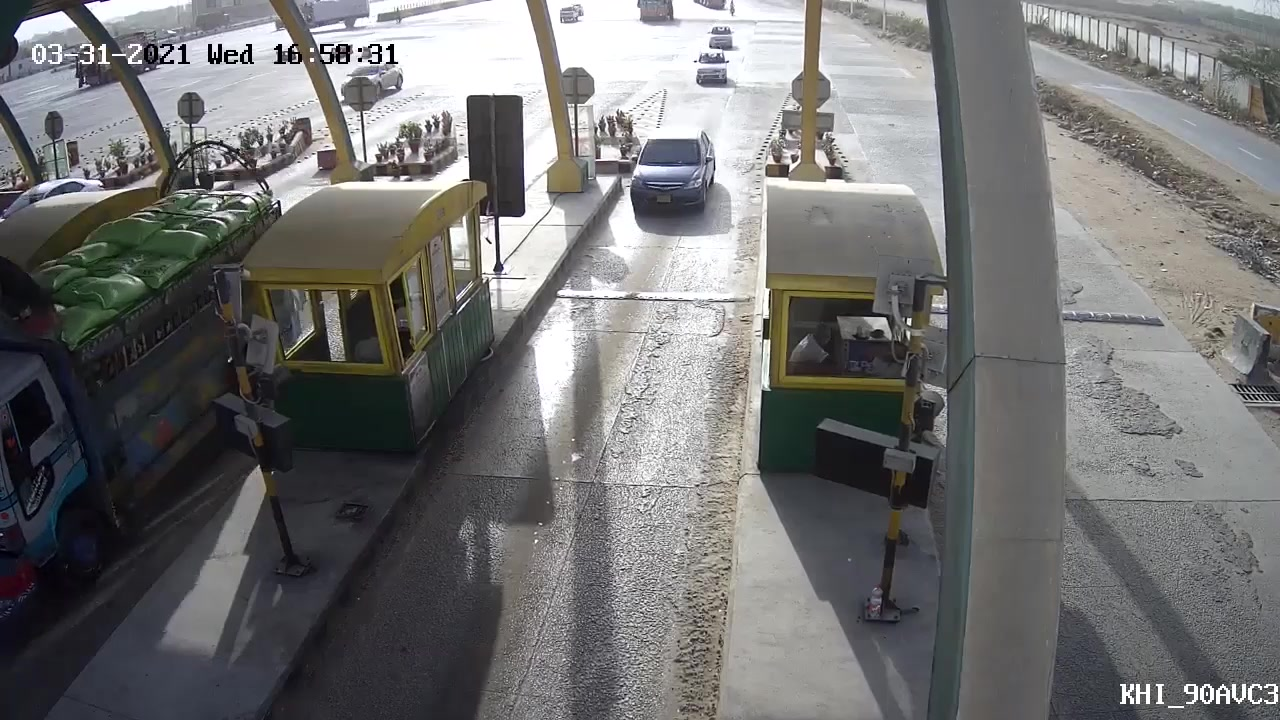F1: (622, 126, 722, 226), (687, 49, 742, 91)
